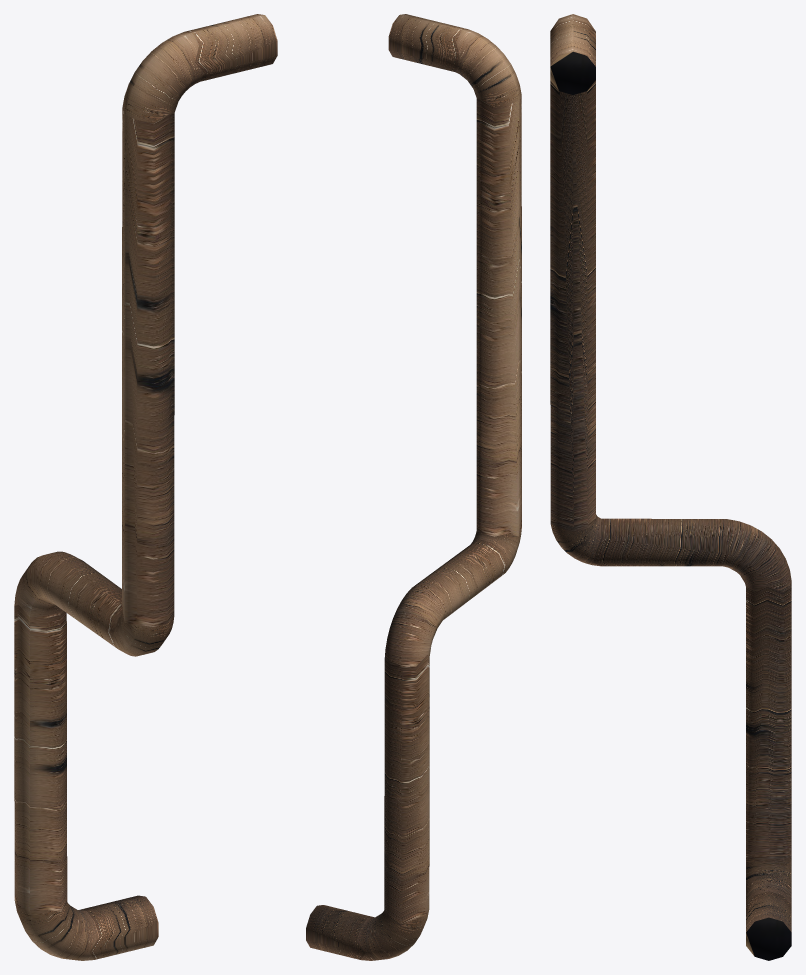
Rendered from wallPipe2_300.fbx.
3 renders of one model, left to right at view 1: azimuth 30°, elevation 25°; view 2: azimuth 150°, elevation 25°; view 3: azimuth 270°, elevation 25°, orthographic. The views are drawn at different scales.
Parts seen in each view (by area): view 1: pipeB200; view 2: pipeB200; view 3: pipeB200.
Boxes of the visible parts, x1=… form: pipeB200: x1=14, y1=14, x2=277, y2=960; pipeB200: x1=306, y1=14, x2=521, y2=960; pipeB200: x1=550, y1=14, x2=791, y2=960.
Size of the model in its own units: 0.8337 by 5.73 by 1.37.
